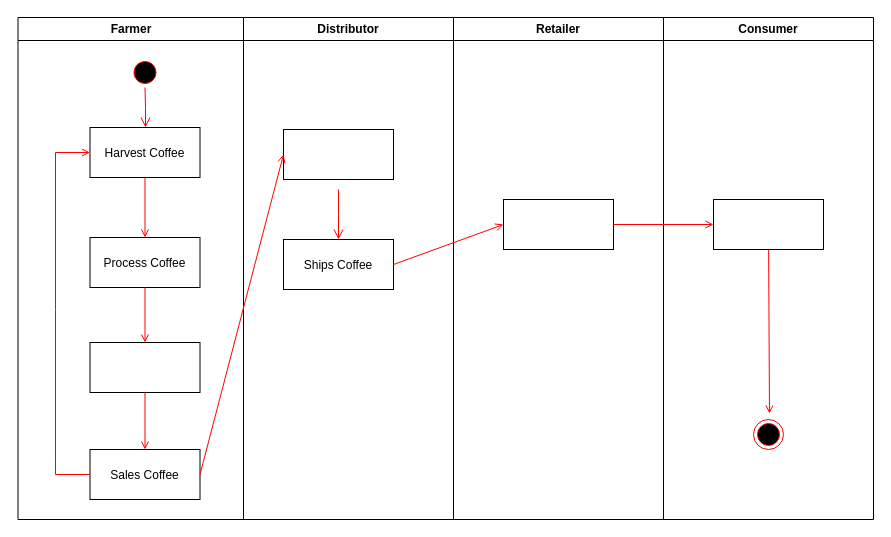
Some shapes in this 891 by 537 pixel diagram are drawn without their labels. Here are the shapes that lost their labels. From the top down, the centre of each, then its label:
At (x=338, y=154): "Buys Coffee".
At (x=558, y=224): "Receives Coffee".
At (x=768, y=224): "Purchases Coffee".
At (x=144, y=367): "Packs Coffee".
